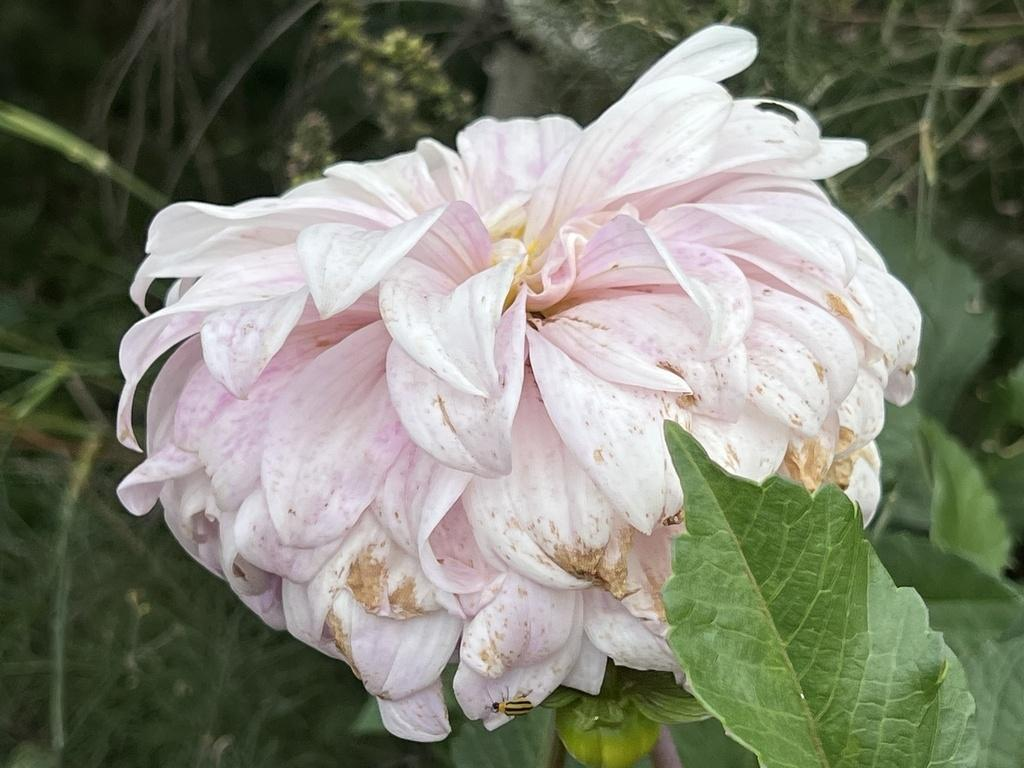potato_beetle: (469, 668, 554, 732)
